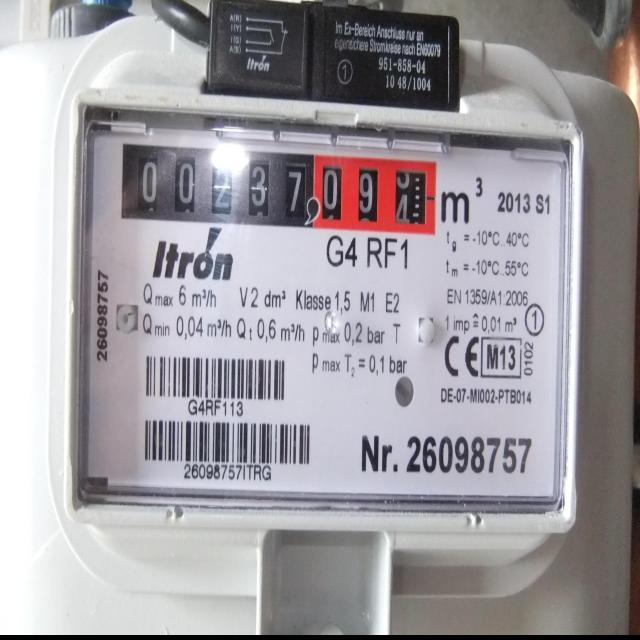gaz_meter: (83, 96, 564, 506)
indication: (121, 145, 436, 236)
